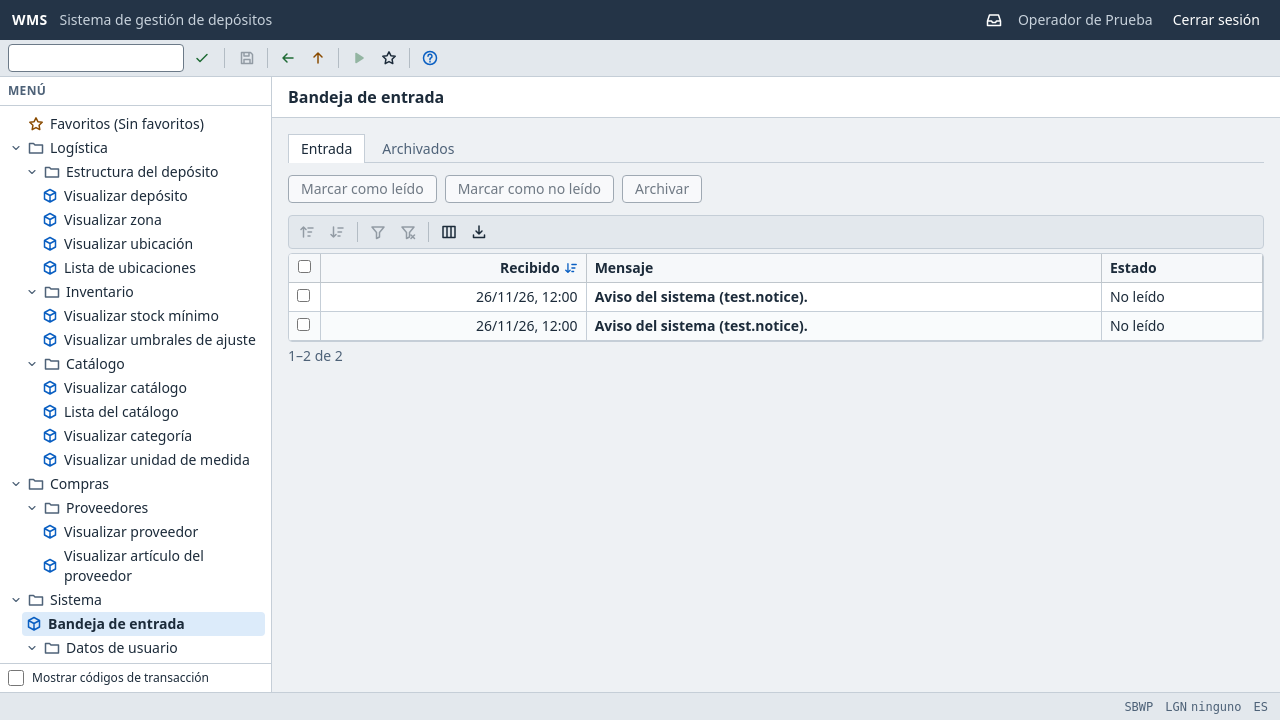
SBWP: bandeja de entrada › archiva la selección y lo informa en la barra de estado
Expected: the button "Archivar" is disabled, [622,175,702,203]
Click the checkbox named "Seleccionar todas las filas visibles" at (304, 266), box [298,260,311,273]
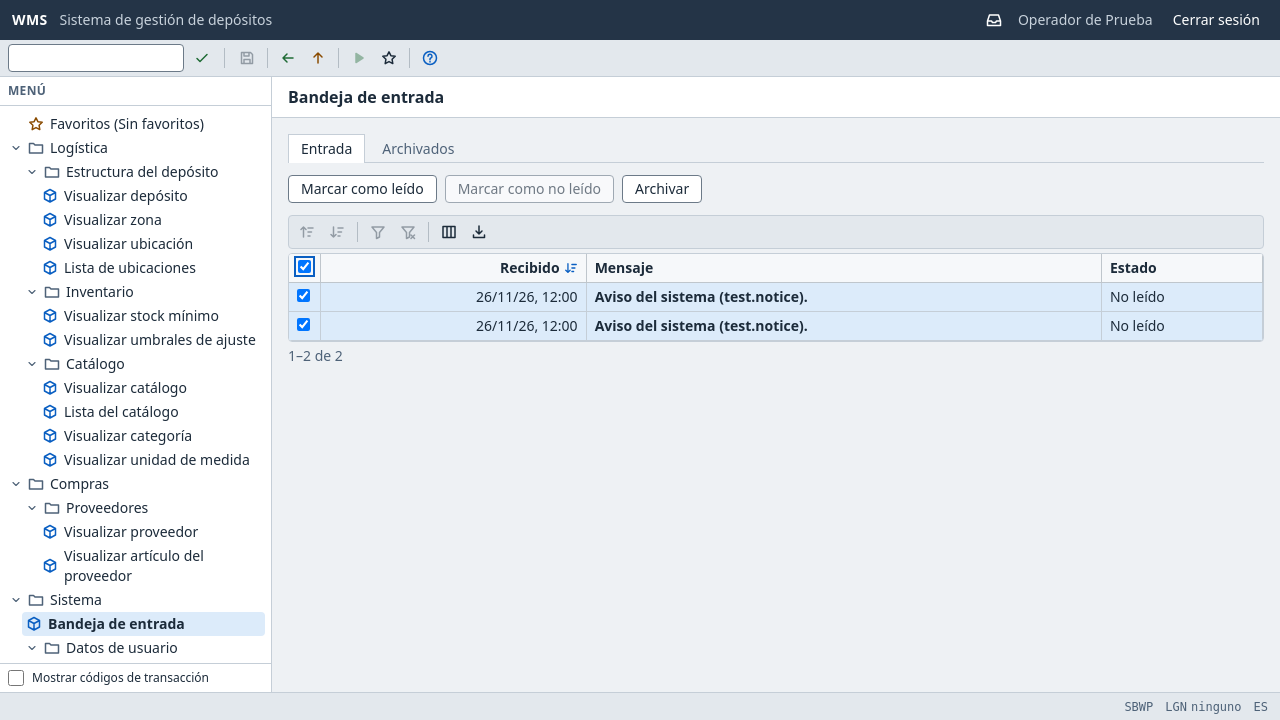
Click the button "Archivar" at (662, 189), box [622,175,702,203]
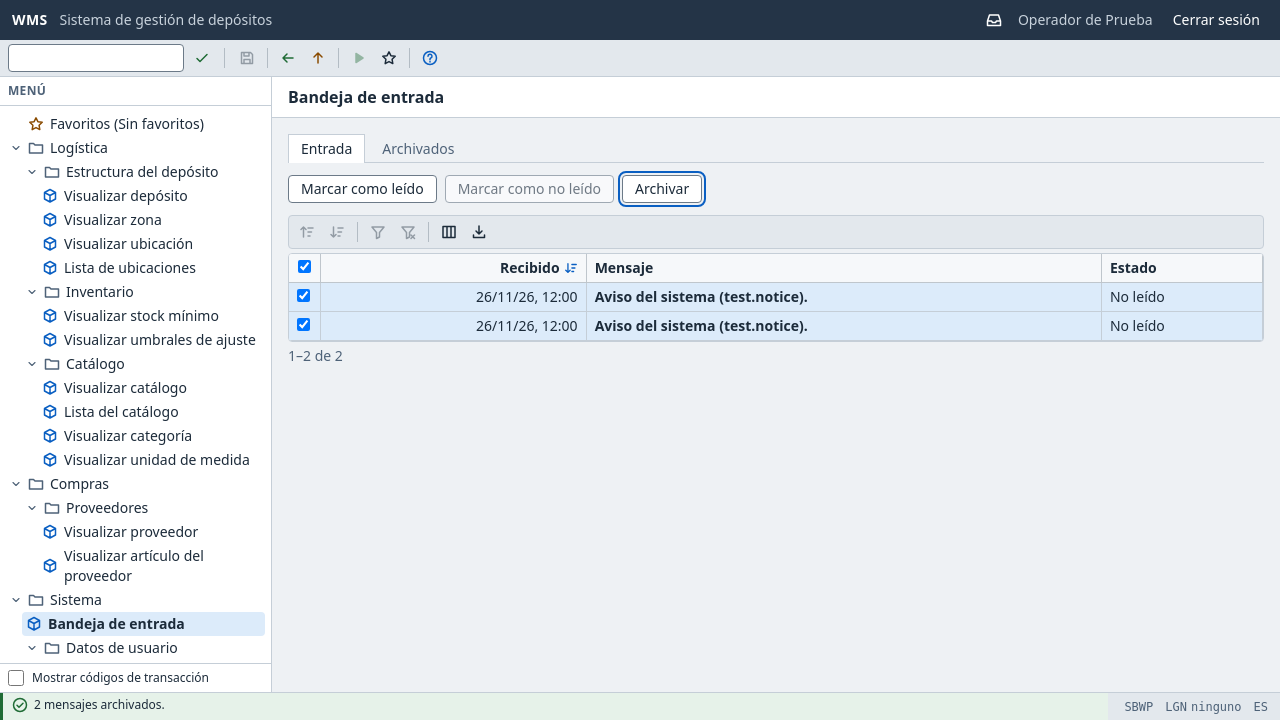
Result: the text "2 mensajes archivados." is shown at [34,696,165,712]
